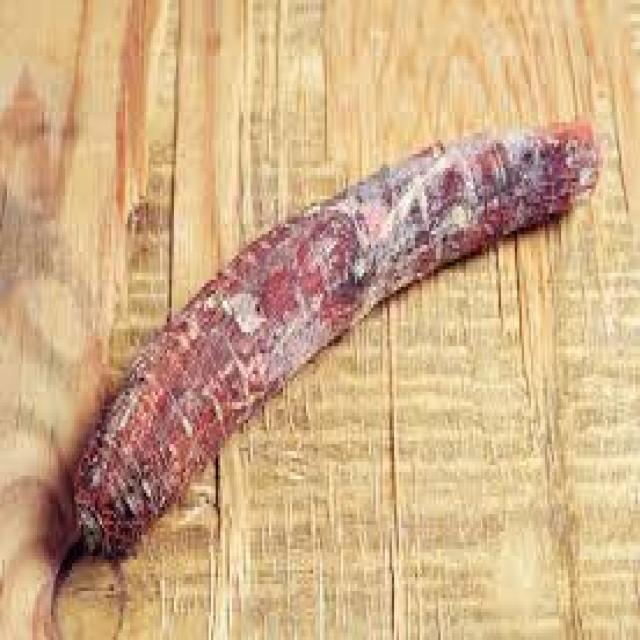Stale_Carrot: (74, 123, 595, 555)
